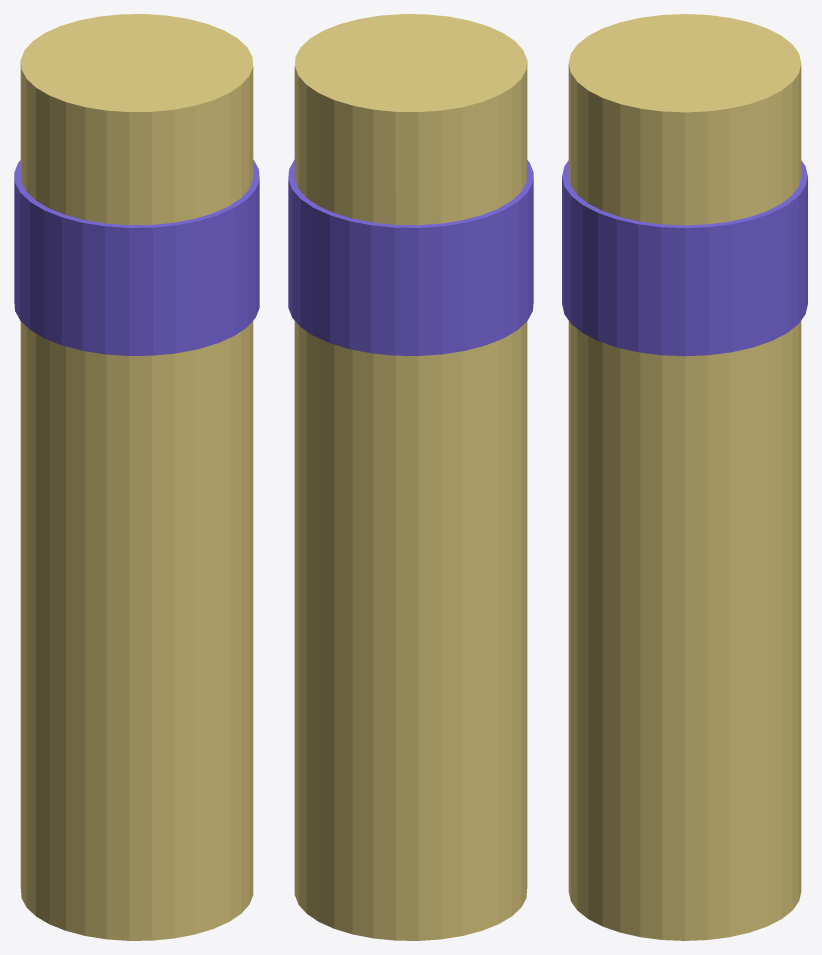
The model's file is Lever_Arm.fbx.
3 views of the same model, side by side, from view 1: azimuth 30°, elevation 25°; view 2: azimuth 150°, elevation 25°; view 3: azimuth 270°, elevation 25° (orthographic).
Parts seen in each view (by area): view 1: Lever_Arm; view 2: Lever_Arm; view 3: Lever_Arm.
Boxes of the visible parts, bbox=[...] form: Lever_Arm: bbox=[14, 14, 259, 940]; Lever_Arm: bbox=[288, 14, 533, 940]; Lever_Arm: bbox=[562, 14, 807, 940].
Size of the model in its own units: 88.8 by 330 by 88.74.
